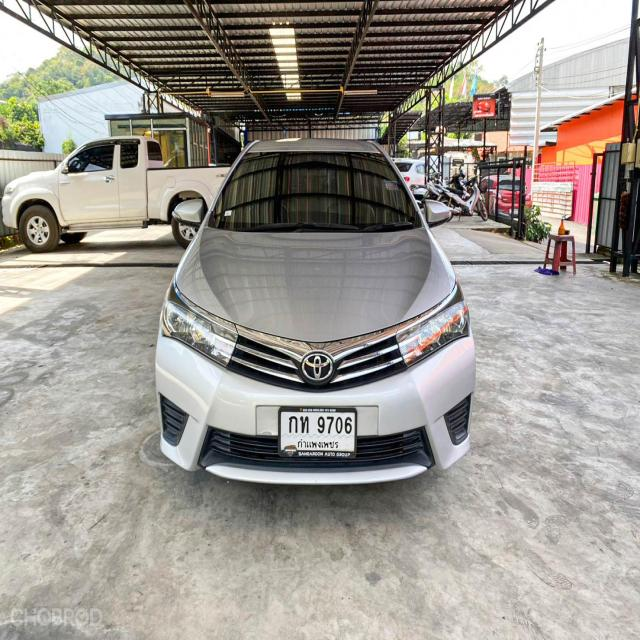license_plate: (274, 406, 360, 470)
